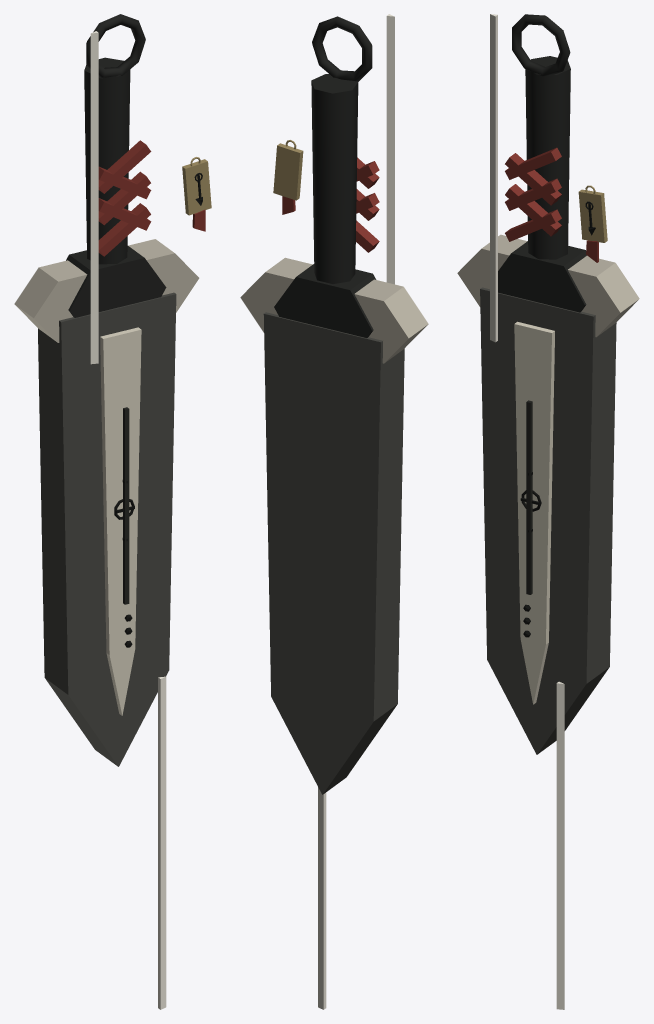
File: fantasy-faceted-bastard-sword-v1.glb
3 renders of one model, left to right at view 1: azimuth 30°, elevation 25°; view 2: azimuth 150°, elevation 25°; view 3: azimuth 330°, elevation 25°, orthographic. The views are drawn at different scales.
Parts seen in each view (by area): view 1: Bastard Sword; view 2: Bastard Sword; view 3: Bastard Sword.
Part boxes in pixels (left/top/right/bottom): Bastard Sword: left=14, top=14, right=211, bottom=1009; Bastard Sword: left=240, top=14, right=428, bottom=1009; Bastard Sword: left=457, top=14, right=639, bottom=1009.
Bounding box in the file's own units: 1.37 × 7.84 × 0.5669.
